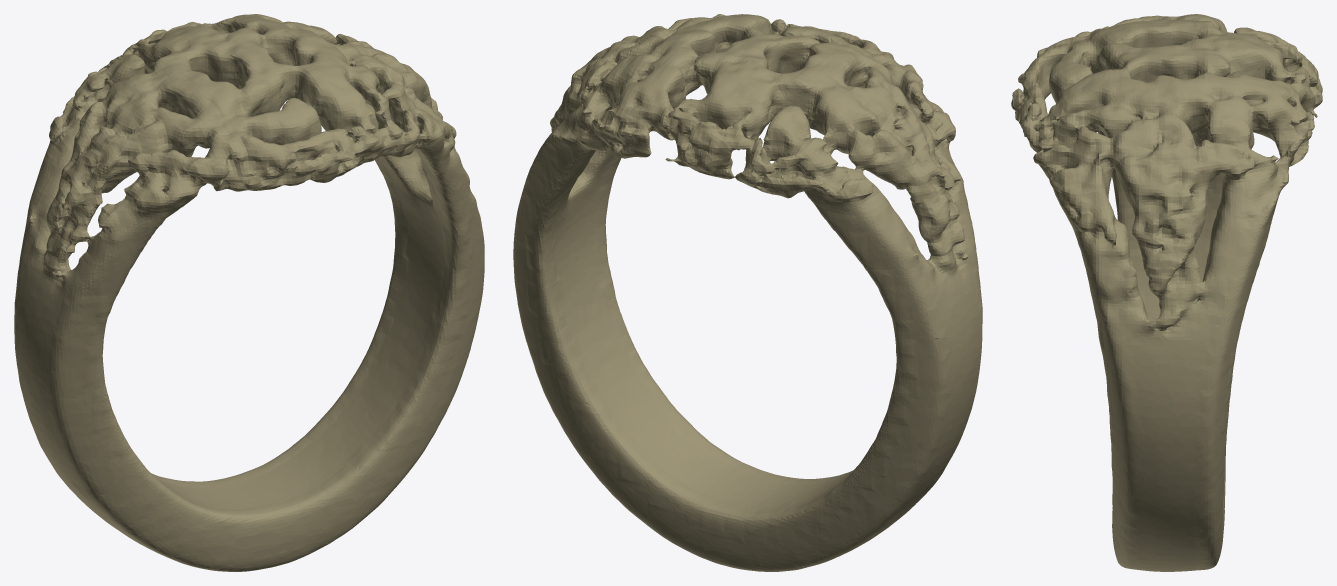
File: ring.glb
3 renders of one model, left to right at view 1: azimuth 30°, elevation 25°; view 2: azimuth 150°, elevation 25°; view 3: azimuth 270°, elevation 25°, orthographic.
Bounding box in the file's own units: 1.37 × 1.52 × 0.8529.
Materials: 1 (1 with a texture image).
